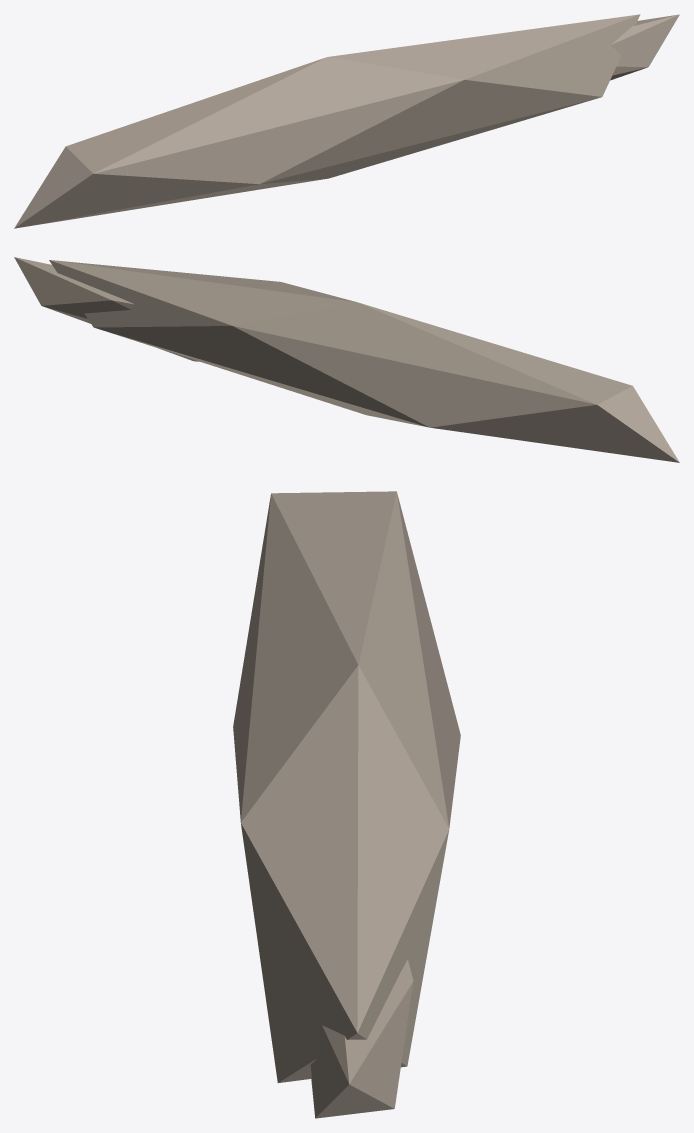
Rendered from namaqualand_rocks_01.gltf.
3 views of the same model, one above another, from view 1: azimuth 30°, elevation 25°; view 2: azimuth 150°, elevation 25°; view 3: azimuth 270°, elevation 25° (orthographic). The views are drawn at different scales.
Parts seen in each view (by area): view 1: r0, r2; view 2: r0, r2; view 3: r0, r2.
Part boxes in pixels (<box>): r0: <box>14,14,640,228</box>; r2: <box>610,14,679,80</box>; r0: <box>49,260,679,462</box>; r2: <box>14,257,199,361</box>; r0: <box>233,491,460,1082</box>; r2: <box>310,959,413,1118</box>.
Size of the model in its own units: 0.932 by 0.1555 by 0.1388.
